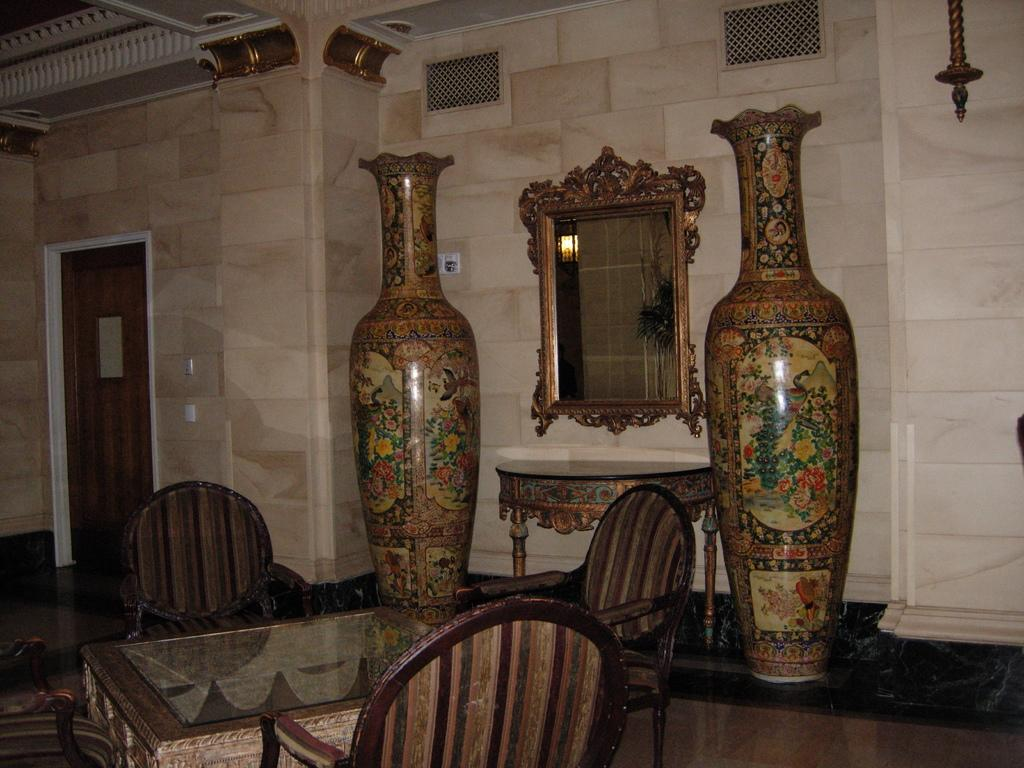Chair: (454, 483, 696, 766), (258, 596, 629, 767), (118, 479, 312, 639), (0, 636, 120, 767)
Computer-monitor: (515, 144, 708, 438)
